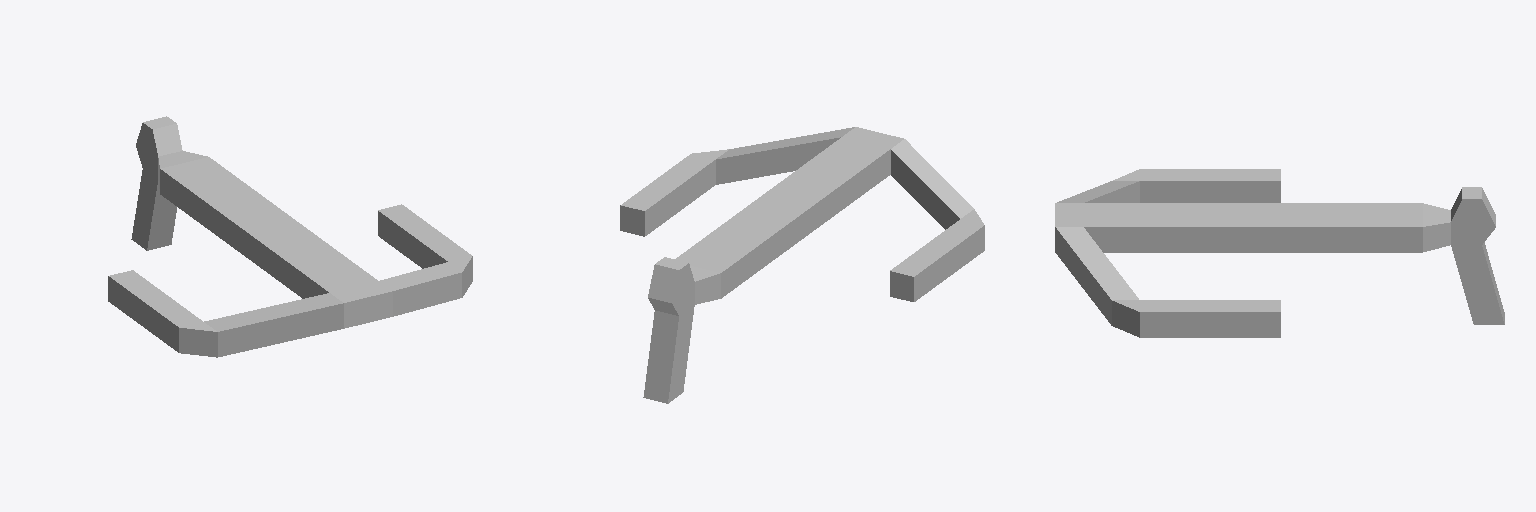
File: Weapon_BladeShooter.obj
The picture shows the model from 3 angles: view 1: azimuth 30°, elevation 25°; view 2: azimuth 150°, elevation 25°; view 3: azimuth 270°, elevation 25°; orthographic projection.
Bounding box in the file's own units: 1.2 × 0.49 × 1.59.